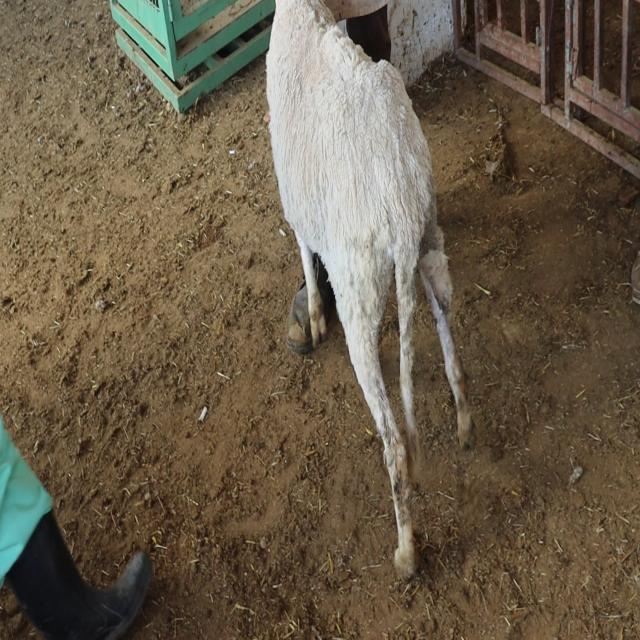Score_1: (266, 0, 473, 578)
